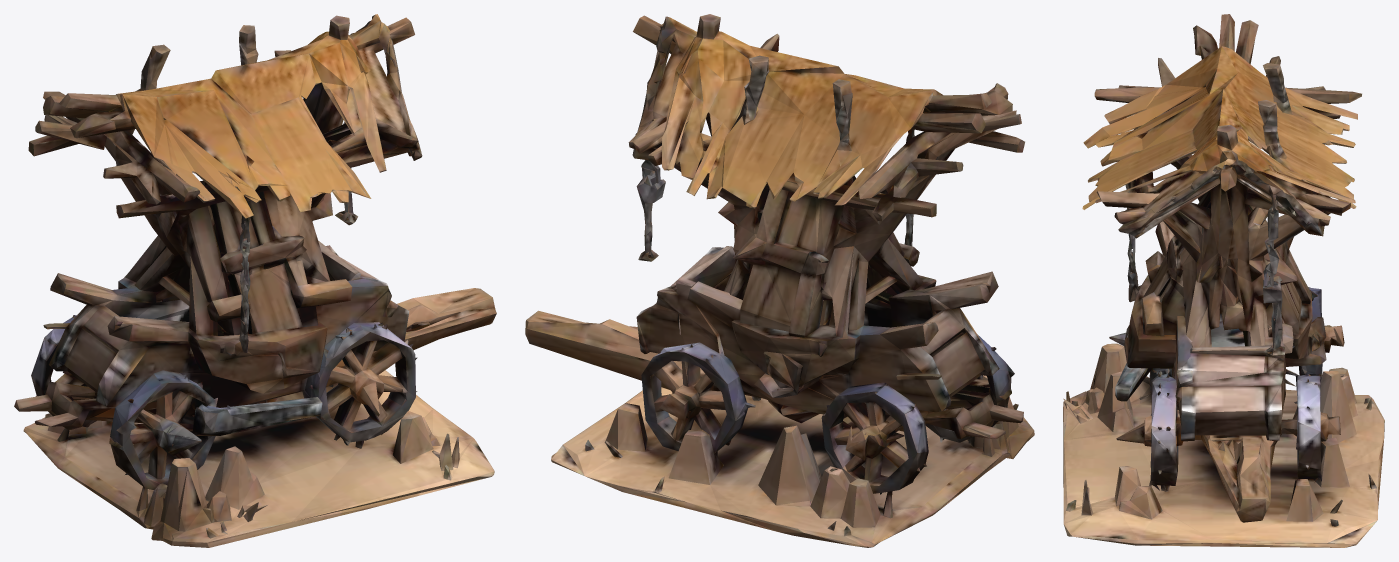
File: orc_battering_ram_01.glb
The picture shows the model from 3 angles, left to right: view 1: azimuth 30°, elevation 25°; view 2: azimuth 150°, elevation 25°; view 3: azimuth 270°, elevation 25°; orthographic projection. The views are drawn at different scales.
Parts seen in each view (by area): view 1: geometry_0; view 2: geometry_0; view 3: geometry_0.
Boxes of the visible parts, x1=… form: geometry_0: x1=14, y1=14, x2=496, y2=547; geometry_0: x1=525, y1=14, x2=1034, y2=547; geometry_0: x1=1063, y1=14, x2=1384, y2=547.
Size of the model in its own units: 0.9993 by 0.8562 by 0.6415.
1 material, 1 textured.
